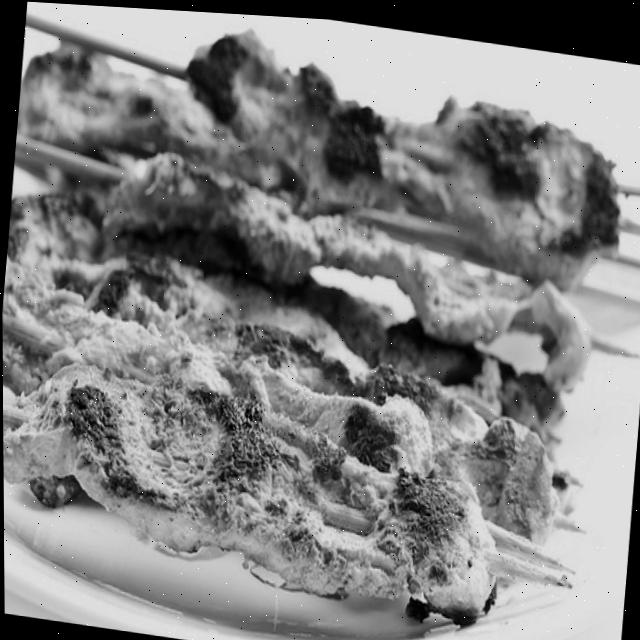牛肉菜式: (0, 5, 640, 640)
